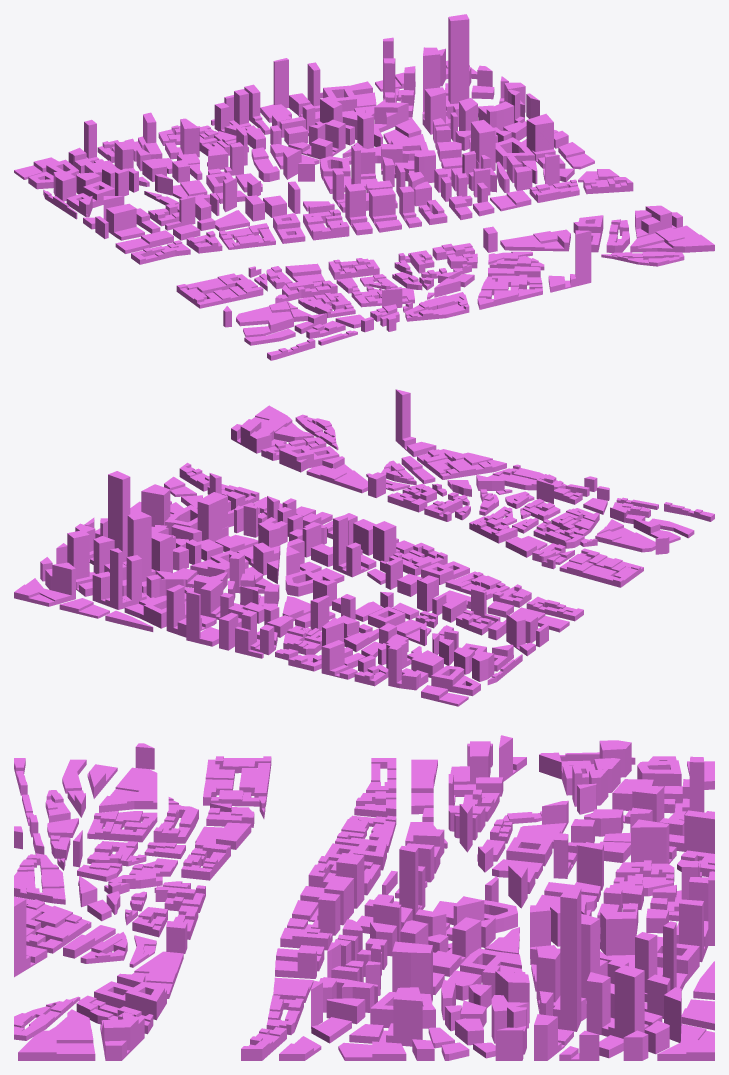
The model's file is buildings_00022.obj.
3 views of the same model, one above another, from view 1: azimuth 30°, elevation 25°; view 2: azimuth 150°, elevation 25°; view 3: azimuth 270°, elevation 25° (orthographic). The views are drawn at different scales.
Size of the model in its own units: 1512 by 314 by 1500.
